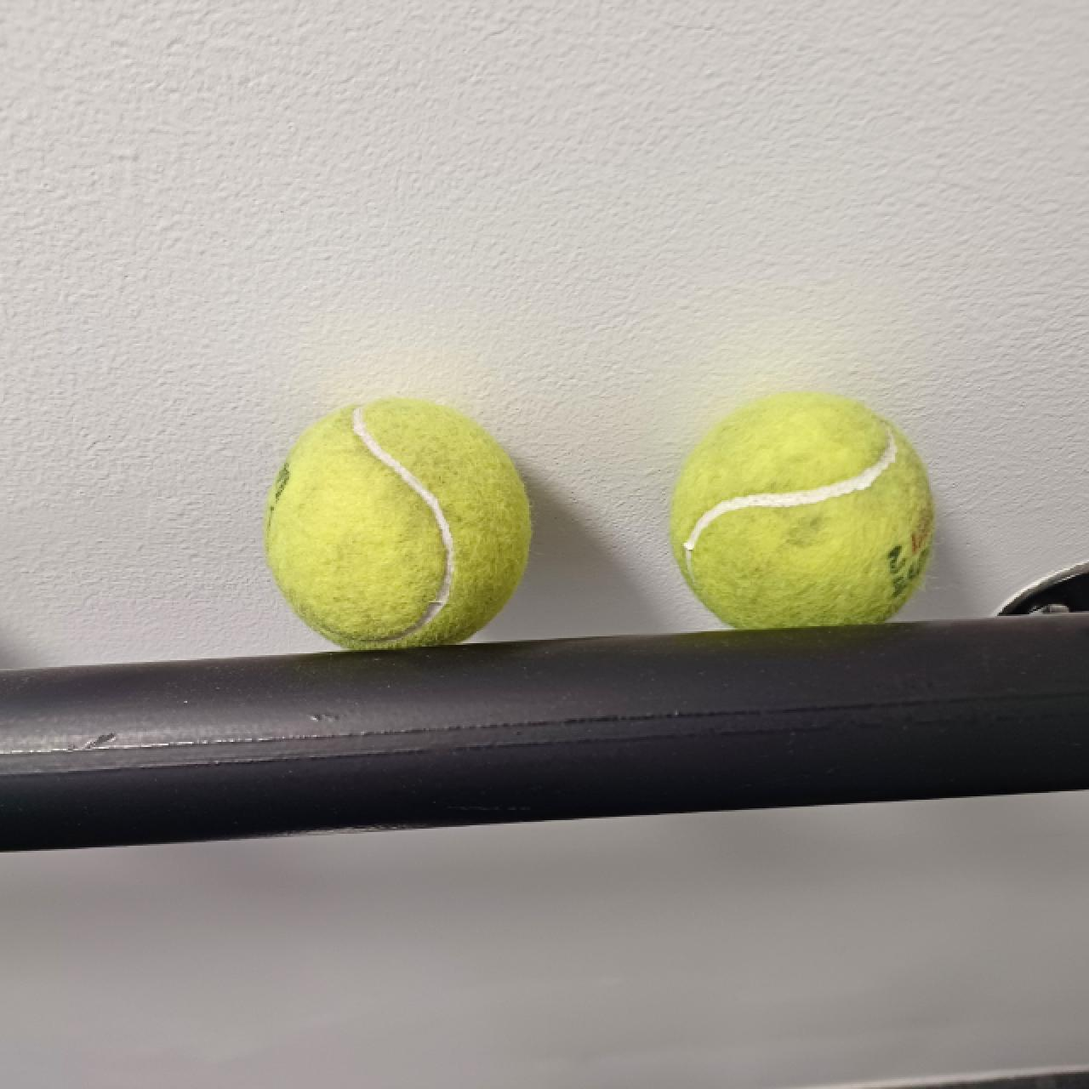tennis-ball: (266, 399, 534, 653), (670, 390, 936, 630)
